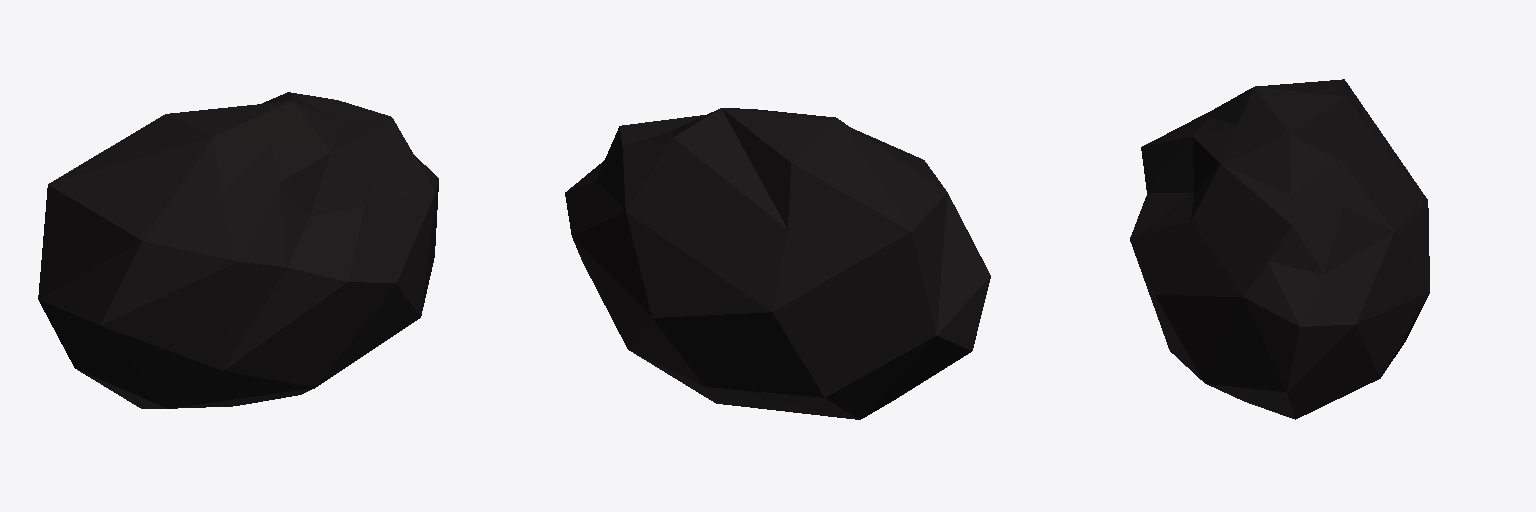
File: piedra.obj
The picture shows the model from 3 angles: view 1: azimuth 30°, elevation 25°; view 2: azimuth 150°, elevation 25°; view 3: azimuth 270°, elevation 25°; orthographic projection.
Parts seen in each view (by area): view 1: Sphere; view 2: Sphere; view 3: Sphere.
Part boxes in pixels (x1,y1,x2,y2): Sphere: (38, 92, 438, 408); Sphere: (565, 108, 990, 419); Sphere: (1130, 79, 1429, 419).
Size of the model in its own units: 2.35 by 1.66 by 1.59.